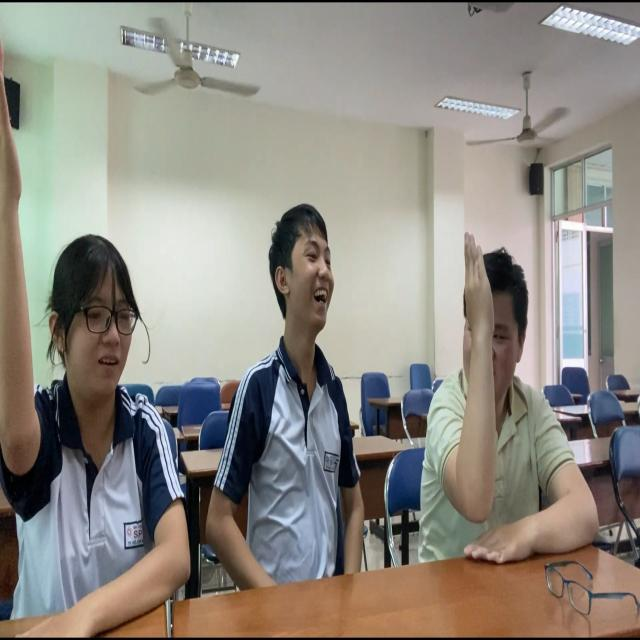raise_hand: (1, 25, 204, 640), (412, 214, 604, 620)
